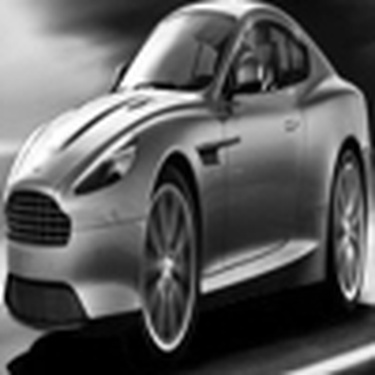car: (2, 4, 370, 371)
